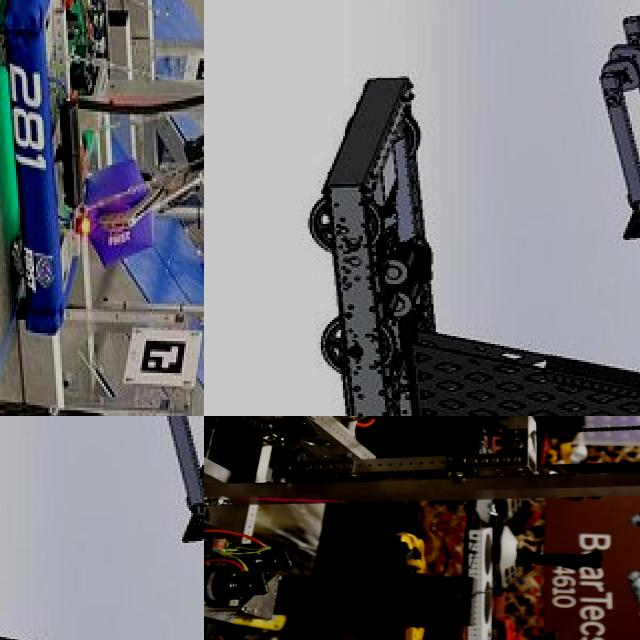FRC-Robots: (214, 0, 640, 416), (204, 416, 640, 619), (0, 0, 204, 349), (0, 416, 204, 640)
